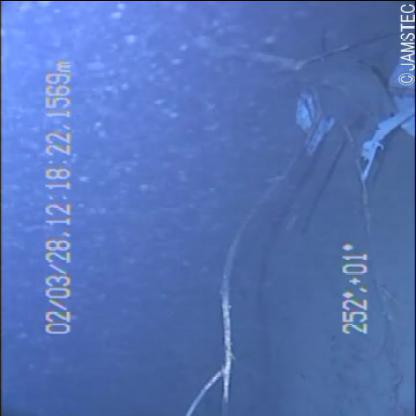Rác: (329, 37, 415, 181)
